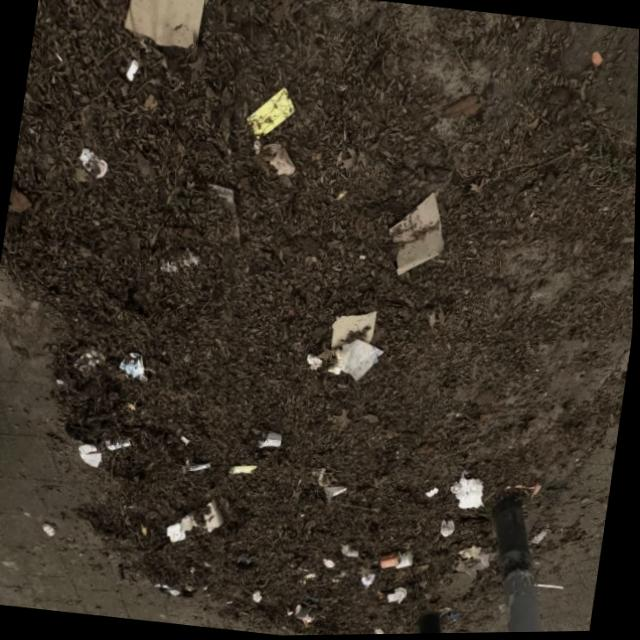Can-Metal: (379, 548, 404, 571)
Cup: (76, 440, 106, 468), (258, 429, 284, 451), (396, 549, 416, 571), (440, 518, 456, 538)
Mask: (117, 350, 159, 384), (531, 525, 554, 547), (297, 604, 312, 619)
Paper: (117, 0, 216, 54), (337, 335, 387, 384), (448, 467, 492, 513), (258, 140, 299, 177), (165, 520, 189, 544), (387, 585, 410, 606), (362, 571, 378, 588), (253, 589, 265, 603)
Plastic: (183, 459, 212, 476), (105, 436, 134, 452), (322, 557, 338, 570)
